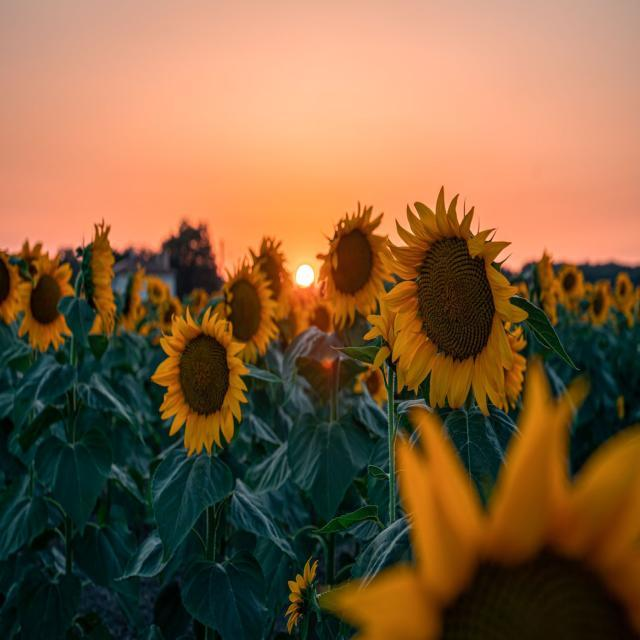sunflower: (315, 355, 639, 638), (378, 184, 528, 417), (150, 304, 250, 456), (316, 200, 394, 330), (212, 255, 280, 365), (17, 251, 74, 353), (364, 292, 420, 395), (248, 234, 293, 319), (88, 218, 116, 338), (284, 554, 318, 634), (295, 294, 340, 347), (502, 322, 528, 411), (120, 262, 148, 332), (535, 250, 559, 326), (0, 249, 23, 325), (353, 364, 388, 407), (555, 264, 585, 310), (585, 278, 612, 326), (15, 239, 42, 274), (615, 270, 635, 309), (156, 296, 181, 327), (144, 275, 168, 306)
